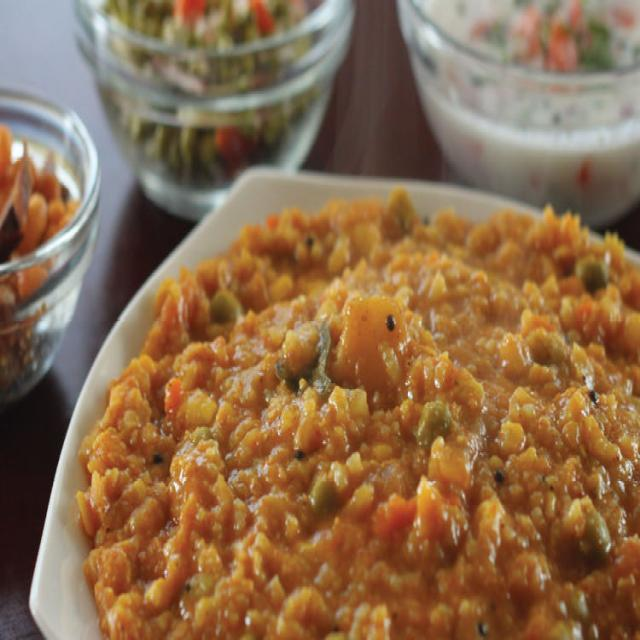bisibele bath: (25, 158, 639, 640)
